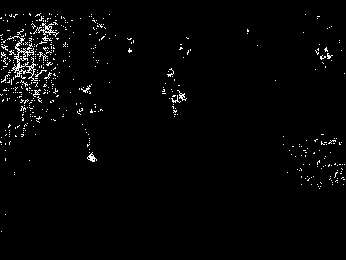person: (160, 66, 188, 116)
